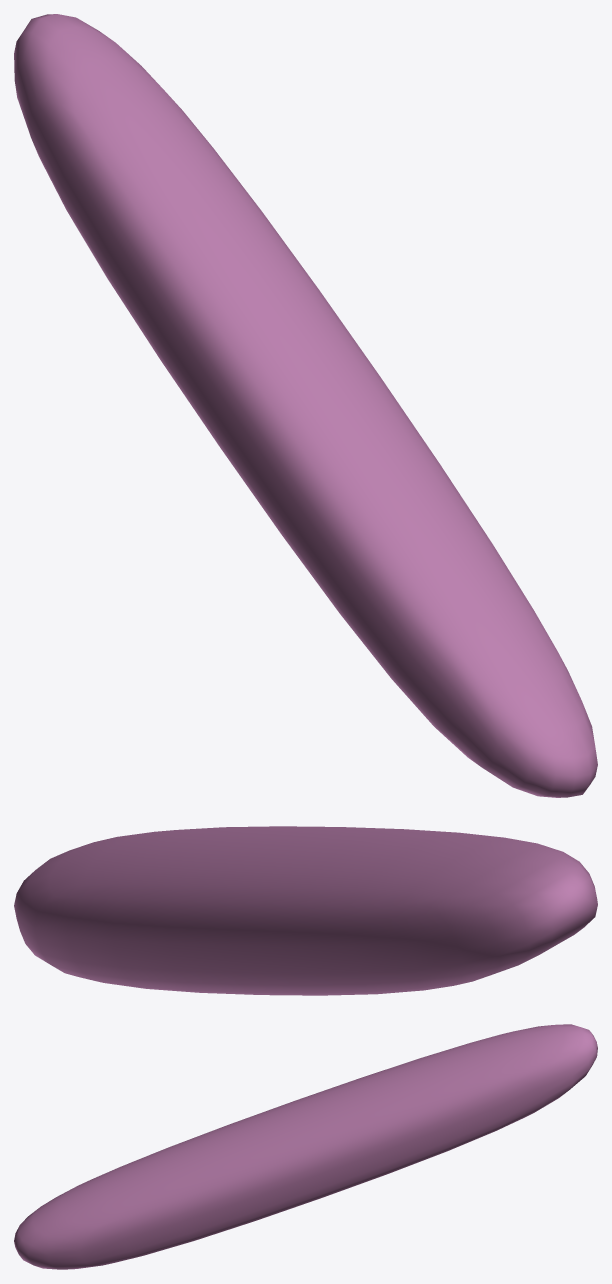
The picture shows the model from 3 angles, top to bottom: view 1: azimuth 30°, elevation 25°; view 2: azimuth 210°, elevation 25°; view 3: azimuth 270°, elevation 25°; orthographic projection. The views are drawn at different scales.
Visible parts, largest first — view 1: 左侧舌下神经核; view 2: 左侧舌下神经核; view 3: 左侧舌下神经核.
Part boxes in pixels (x1=…): 左侧舌下神经核: x1=14, y1=14, x2=597, y2=797; 左侧舌下神经核: x1=14, y1=826, x2=597, y2=995; 左侧舌下神经核: x1=14, y1=1024, x2=597, y2=1269.
Size of the model in its own units: 0.00193 by 0.00471 by 0.0109.
